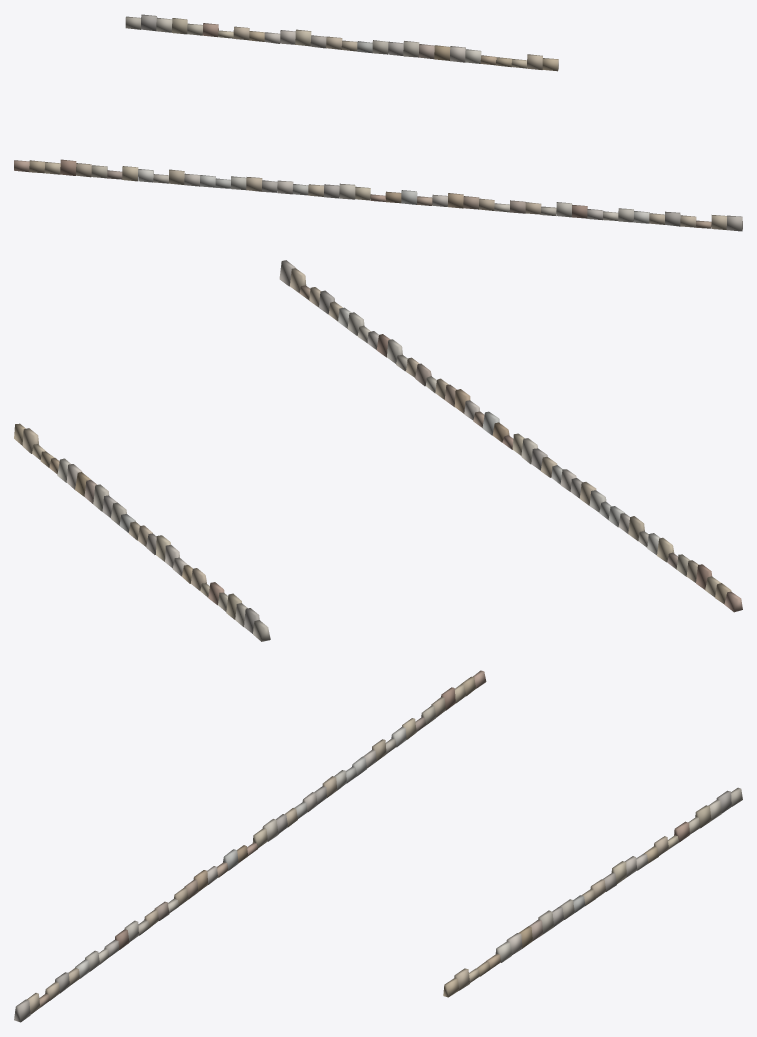
File: farm_-9_1_far.glb
3 views of the same model, one above another, from view 1: azimuth 30°, elevation 25°; view 2: azimuth 150°, elevation 25°; view 3: azimuth 270°, elevation 25° (orthographic). The views are drawn at different scales.
Parts seen in each view (by area): view 1: geometry_0; view 2: geometry_0; view 3: geometry_0.
Boxes of the visible parts, x1,y1,x2,y2 form: geometry_0: [14, 14, 742, 231]; geometry_0: [14, 260, 742, 641]; geometry_0: [14, 670, 742, 1022].
Size of the model in its own units: 63.17 by 6.69 by 65.48.
